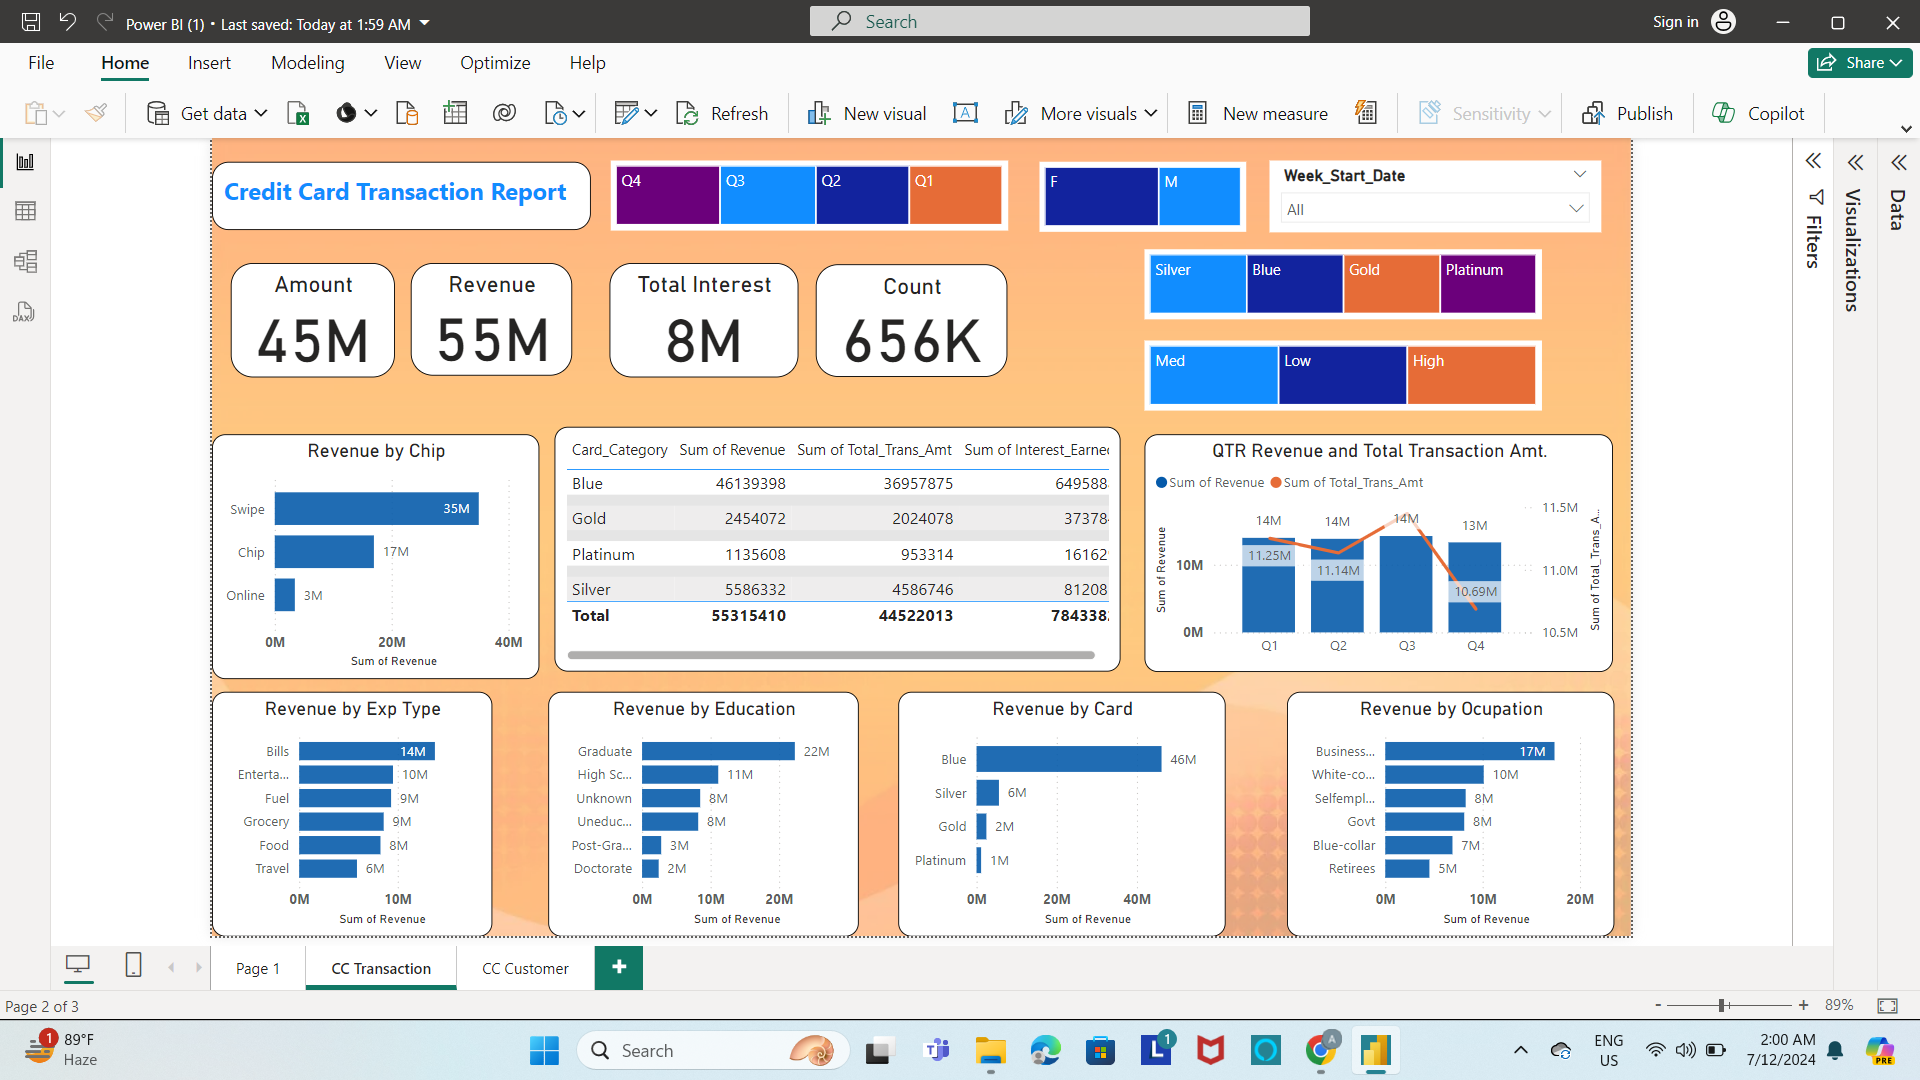

The dashboard page shown, as its layout file describes it:
{"tool":"powerbi","page":{"name":"CC Transaction","canvas":[1280,720],"ordinal":1},"visuals":[{"type":"textbox","box":[0,22,341.7,61.7],"z":0},{"type":"lineStackedColumnComboChart","title":"QTR Revenue and Total Transaction Amt.","fields":{"Category":["credit_card updated.Qtr"],"Y":["Sum(credit_card updated.Revenue)"],"Y2":["Sum(credit_card updated.Total_Trans_Amt)"]},"box":[841.2,267.6,422.6,214.1],"z":1000},{"type":"barChart","title":"Revenue by Exp Type","fields":{"Y":["Sum(credit_card updated.Revenue)"],"Category":["credit_card updated.Exp Type"]},"box":[0,499.5,252.5,220.9],"z":2000},{"type":"barChart","title":"Revenue by Education","fields":{"Category":["public cust_detail.education_level"],"Y":["Sum(credit_card updated.Revenue)"]},"box":[303.3,499.5,279.9,220.9],"z":3000},{"type":"barChart","title":"Revenue by Ocupation","fields":{"Y":["Sum(credit_card updated.Revenue)"],"Category":["public cust_detail.customer_job"]},"box":[968.8,499.5,295,220.9],"z":4000},{"type":"barChart","title":"Revenue by Card","fields":{"Category":["credit_card updated.Card_Category"],"Y":["Sum(credit_card updated.Revenue)"]},"box":[618.9,499.5,295,220.9],"z":5000},{"type":"barChart","title":"Revenue by Chip","fields":{"Y":["Sum(credit_card updated.Revenue)"],"Category":["credit_card updated.Use Chip"]},"box":[0,267.6,295,220.9],"z":6000},{"type":"tableEx","fields":{"Values":["credit_card updated.Card_Category","Sum(credit_card updated.Revenue)","Sum(credit_card updated.Total_Trans_Amt)","Sum(credit_card updated.Interest_Earned)"]},"box":[308.7,260.7,510.5,220.9],"z":7000},{"type":"card","title":"Amount","fields":{"Values":["Sum(credit_card updated.Total_Trans_Amt)"]},"box":[16.5,112.5,148.2,102.9],"z":8000},{"type":"card","title":"Revenue","fields":{"Values":["Sum(credit_card updated.Revenue)"]},"box":[179.8,112.5,145.5,101.5],"z":9000},{"type":"card","title":"Total Interest","fields":{"Values":["Sum(credit_card updated.Interest_Earned)"]},"box":[358.1,112.5,170.2,102.9],"z":10000},{"type":"card","title":"Count","fields":{"Values":["Sum(credit_card updated.Total_Trans_Vol)"]},"box":[544.8,113.9,172.9,101.5],"z":11000},{"type":"slicer","fields":{"Values":["credit_card updated.Week_Start_Date"]},"box":[953.7,20.6,299.1,64.5],"z":12000},{"type":"treemap","fields":{"Group":["credit_card updated.Qtr"],"Values":["Avg(credit_card updated.Client_Num)"]},"box":[359.5,20.6,358.1,63.1],"z":13000},{"type":"treemap","fields":{"Values":["CountNonNull(credit_card updated.Client_Num)"],"Group":["public cust_detail.gender"]},"box":[746.5,22,186.6,63.1],"z":14000},{"type":"treemap","fields":{"Values":["Avg(credit_card updated.Client_Num)"],"Group":["credit_card updated.Card_Category"]},"box":[841.2,100.2,358.1,63.1],"z":15000},{"type":"treemap","fields":{"Values":["Avg(credit_card updated.Client_Num)"],"Group":["public cust_detail.incomegroup"]},"box":[841.2,182.5,358.1,63.1],"z":16000}]}

Visuals, with their boxes on the page's 1280x720 design canvas (x1, y1, x2, y2). These are canvas units, not pixel positions in the 1920x1080 screenshot, which may show the page scaled, cropped or inside an application window:
textbox: detection(0, 22, 342, 84)
"QTR Revenue and Total Transaction Amt." lineStackedColumnComboChart: detection(841, 268, 1264, 482)
"Revenue by Exp Type" barChart: detection(0, 500, 252, 720)
"Revenue by Education" barChart: detection(303, 500, 583, 720)
"Revenue by Ocupation" barChart: detection(969, 500, 1264, 720)
"Revenue by Card" barChart: detection(619, 500, 914, 720)
"Revenue by Chip" barChart: detection(0, 268, 295, 488)
tableEx - credit_card updated.Card_Category x Sum(credit_card updated.Revenue): detection(309, 261, 819, 482)
"Amount" card: detection(16, 112, 165, 215)
"Revenue" card: detection(180, 112, 325, 214)
"Total Interest" card: detection(358, 112, 528, 215)
"Count" card: detection(545, 114, 718, 215)
slicer - credit_card updated.Week_Start_Date: detection(954, 21, 1253, 85)
treemap - credit_card updated.Qtr x Avg(credit_card updated.Client_Num): detection(360, 21, 718, 84)
treemap - CountNonNull(credit_card updated.Client_Num) x public cust_detail.gender: detection(746, 22, 933, 85)
treemap - Avg(credit_card updated.Client_Num) x credit_card updated.Card_Category: detection(841, 100, 1199, 163)
treemap - Avg(credit_card updated.Client_Num) x public cust_detail.incomegroup: detection(841, 182, 1199, 246)
